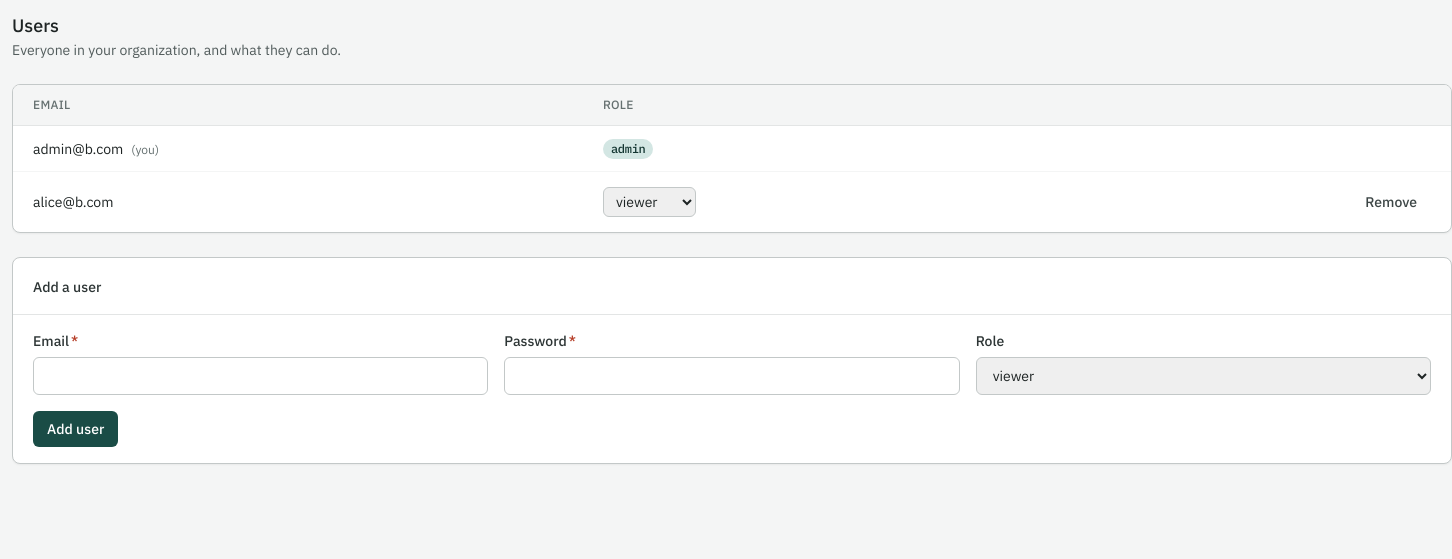
it: Users role management › shows an error message and does not crash when the role update is refused
Select "admin" in the dropdown named "Role for alice@b.com" at (650, 202), box [603, 187, 696, 217]
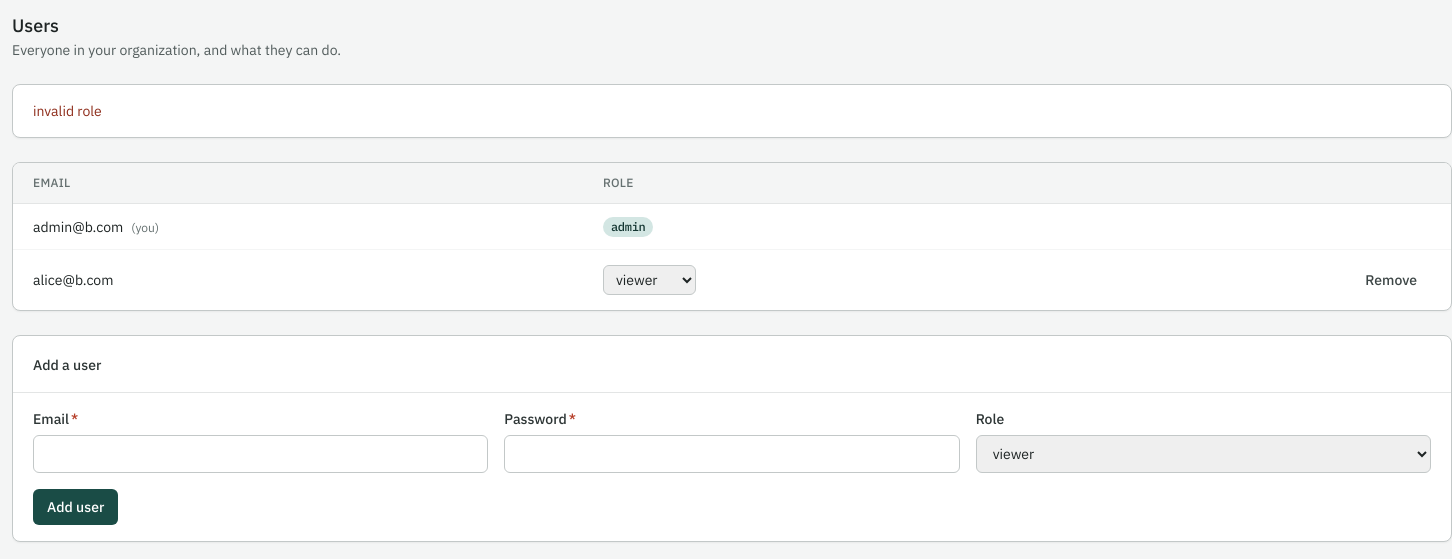
Expected: the text "invalid role" is shown, [33, 102, 102, 120]
